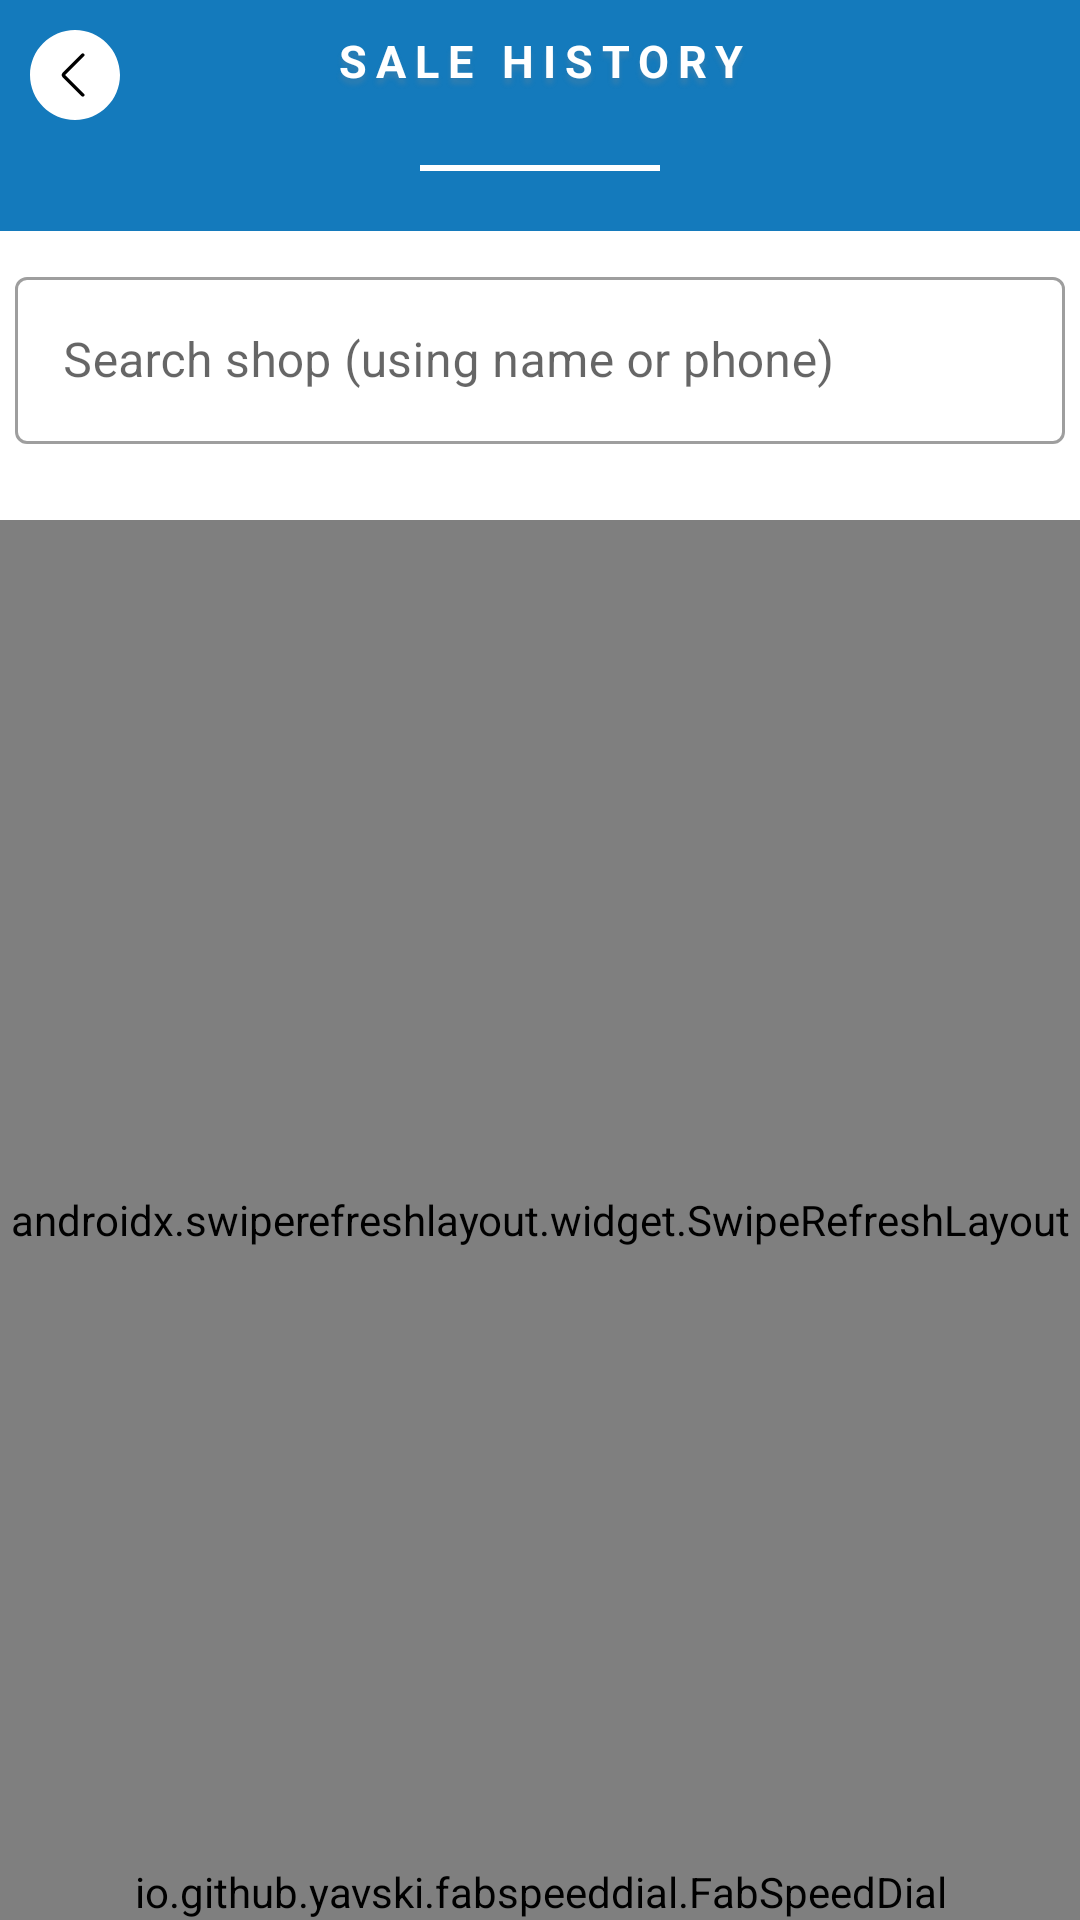

Icons on this 1080×1920 Android screen, each with its box as (x1, y1, x2, y2):
left arrow: (30, 30, 120, 120)
